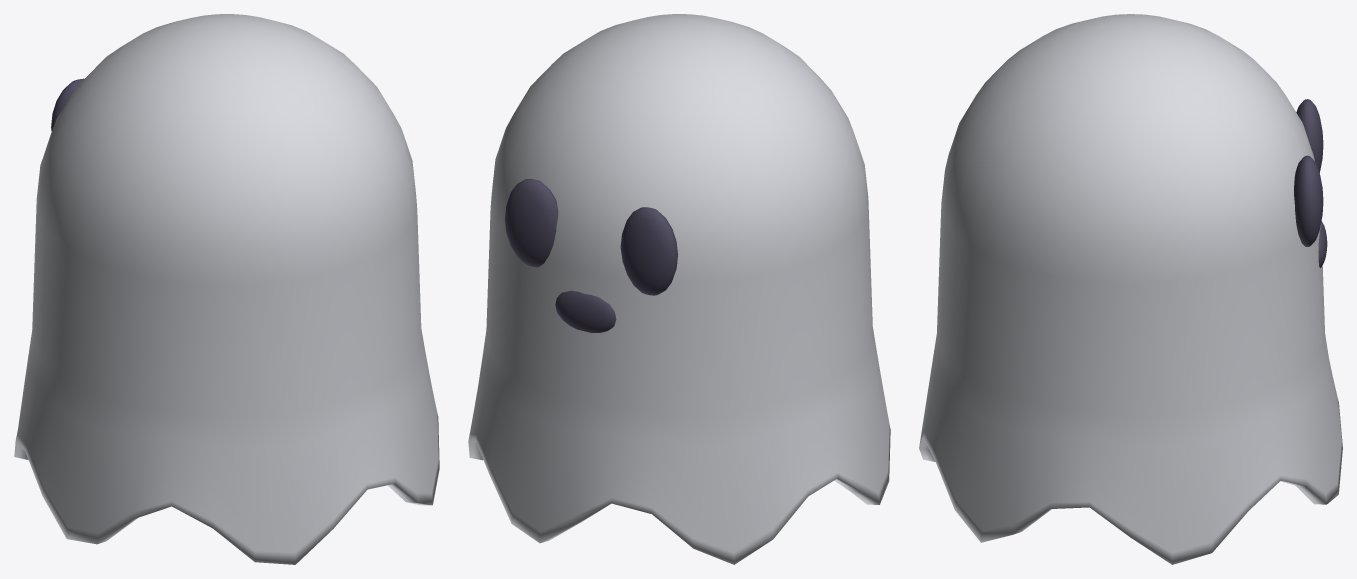
Rendered from Ghost.fbx.
The picture shows the model from 3 angles, left to right: view 1: azimuth 30°, elevation 25°; view 2: azimuth 150°, elevation 25°; view 3: azimuth 270°, elevation 25°; orthographic projection.
Parts seen in each view (by area): view 1: Ghost_Body; view 2: Ghost_Body, Ghost_Eyes; view 3: Ghost_Body, Ghost_Eyes.
Boxes of the visible parts, bbox=[...] form: Ghost_Body: bbox=[14, 14, 439, 564]; Ghost_Body: bbox=[468, 14, 890, 564]; Ghost_Eyes: bbox=[505, 179, 677, 332]; Ghost_Body: bbox=[919, 14, 1342, 564]; Ghost_Eyes: bbox=[1294, 99, 1327, 267].
Bounding box in the file's own units: 3.8 × 4.44 × 3.8.
